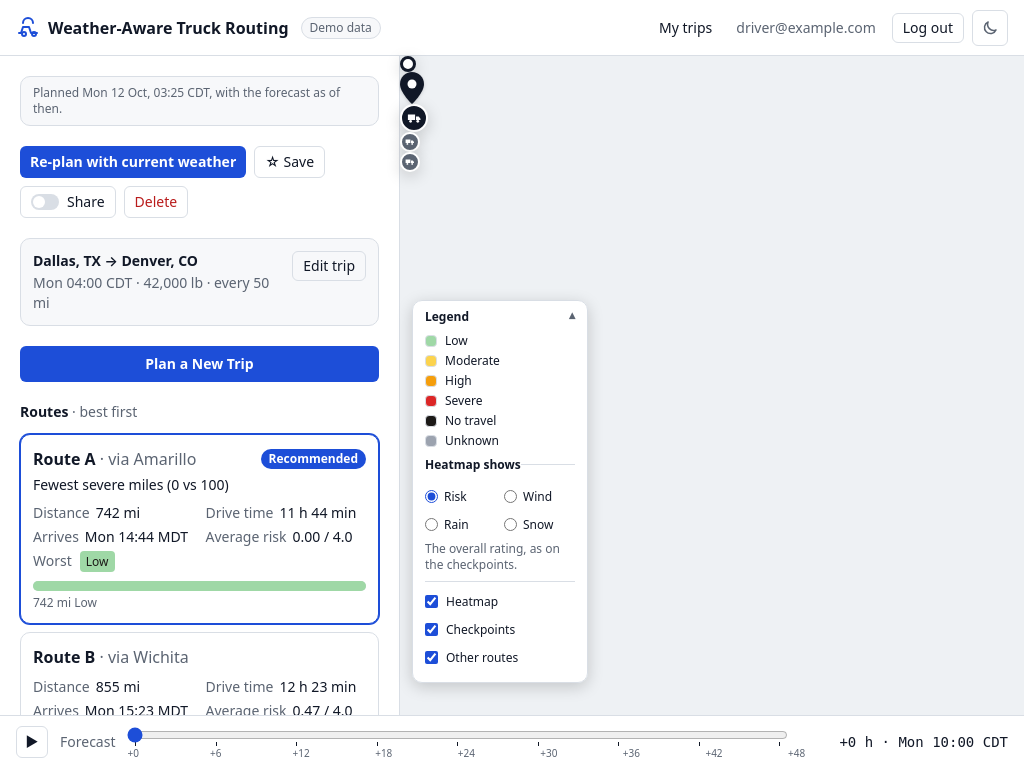
Test case: trip actions › saves a trip under a name
Click the button "☆ Save" at point(290, 162), box [254,146,325,178]
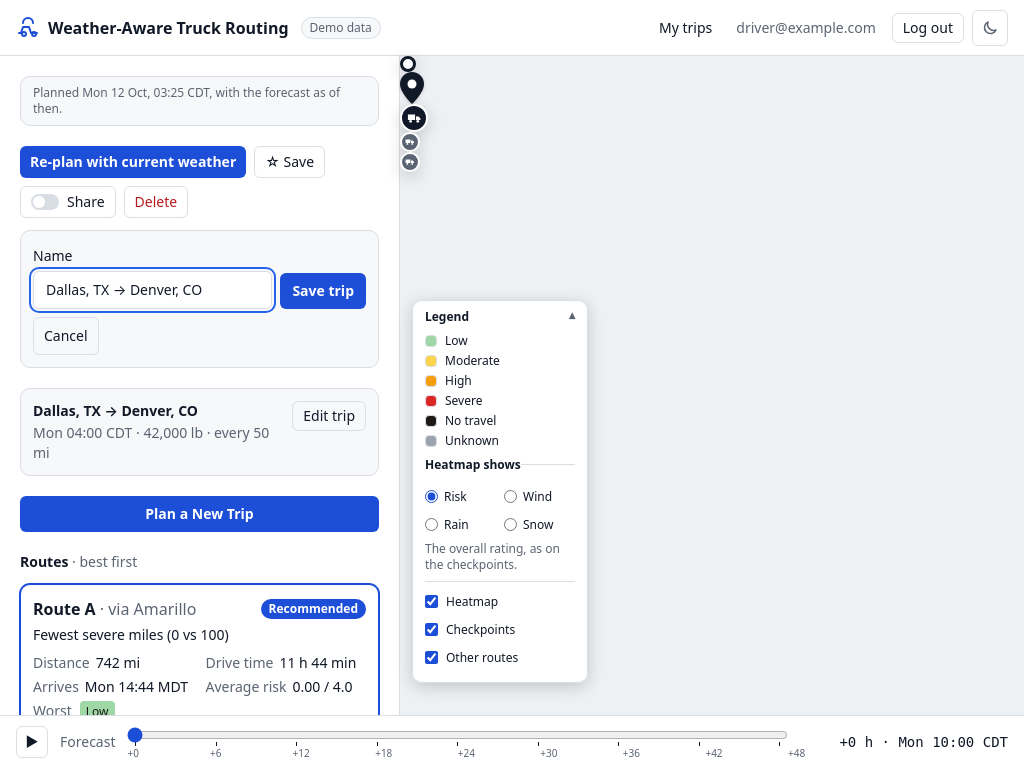
Check: the field labelled "Name" holds "Dallas, TX → Denver, CO"
Clear the field labelled "Name" at point(153, 290), box [33,271,272,309]
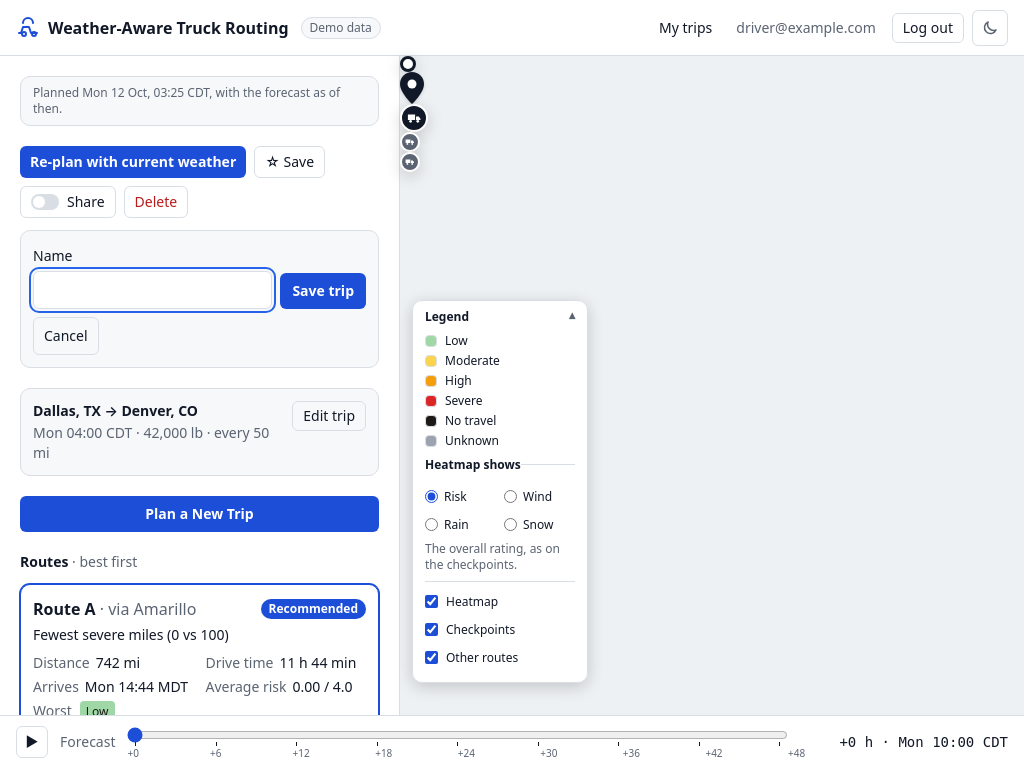
Type keys "Weekly run{Enter}"
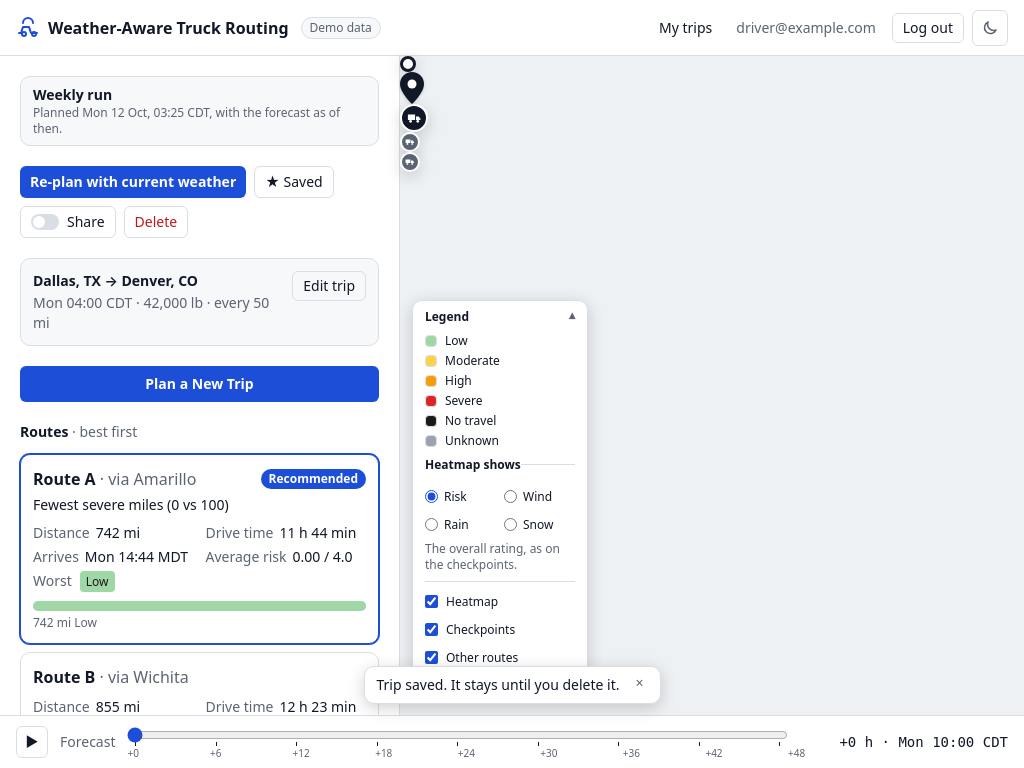
Check: the text "Trip saved. It stays until you delete it." is shown, box [376,675,620,695]
Check: the text "Weekly run" is shown, box [33,85,112,104]
